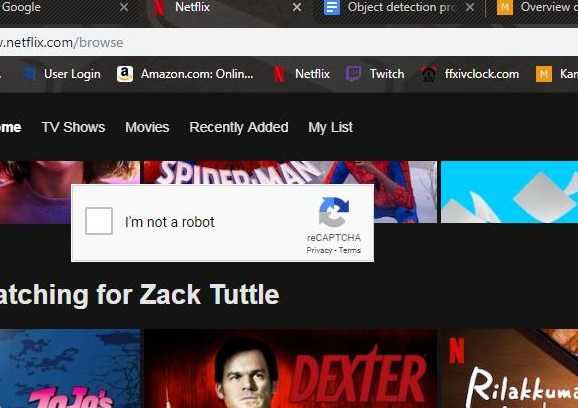captcha: (85, 207, 219, 235)
